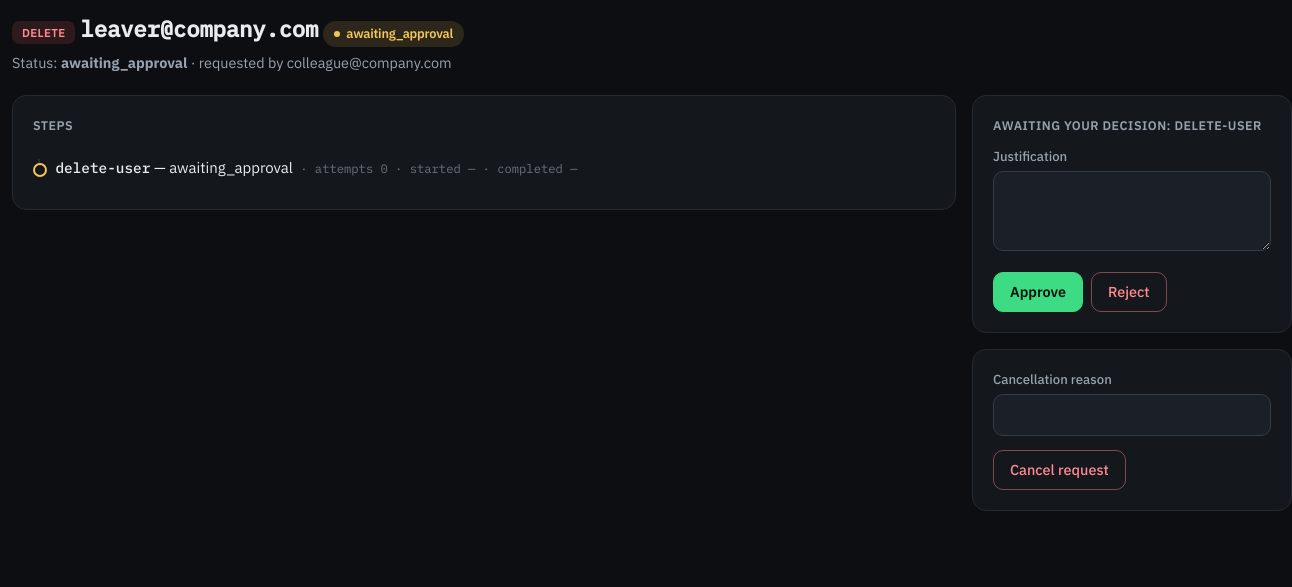
AC-7: approve and reject require a justification and surface the server 400 › renders the server’s refusal rather than assuming its own check sufficed
The image size is (1292, 587).
Click the button "Approve".
click(1038, 292)  # box x1=993 y1=272 x2=1083 y2=312
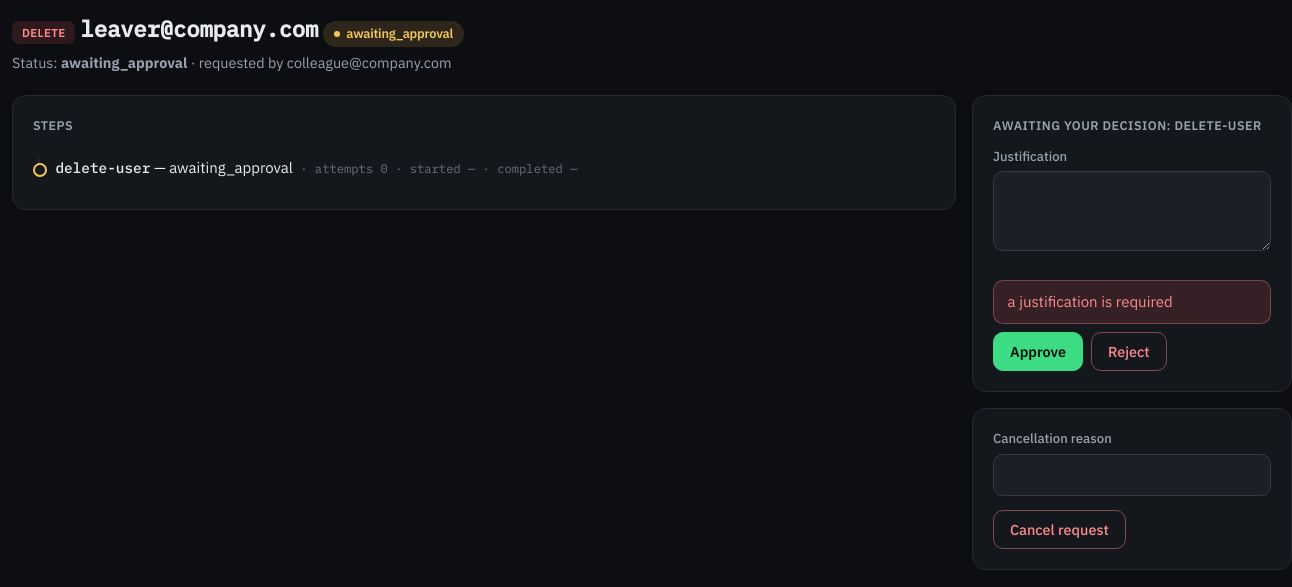
Result: the message reads "a justification is required" at x1=1008 y1=292 x2=1173 y2=310
